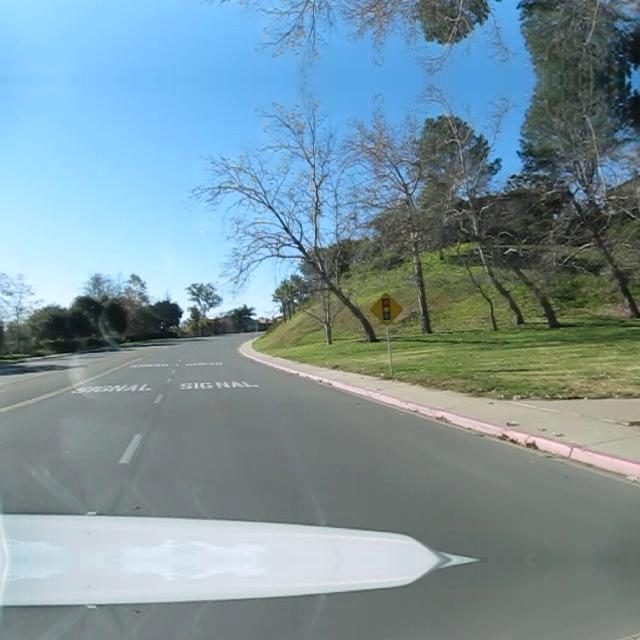signalAhead: (368, 290, 402, 326)
